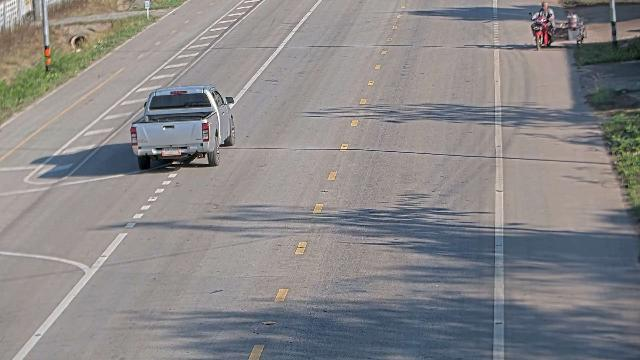pickup-truck: (129, 84, 236, 170)
